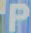Parking: (7, 1, 30, 31)
